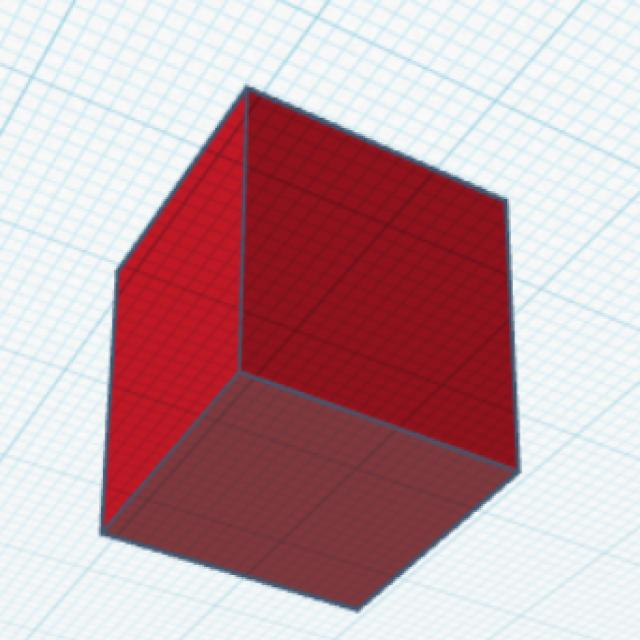cube: (96, 81, 526, 617)
